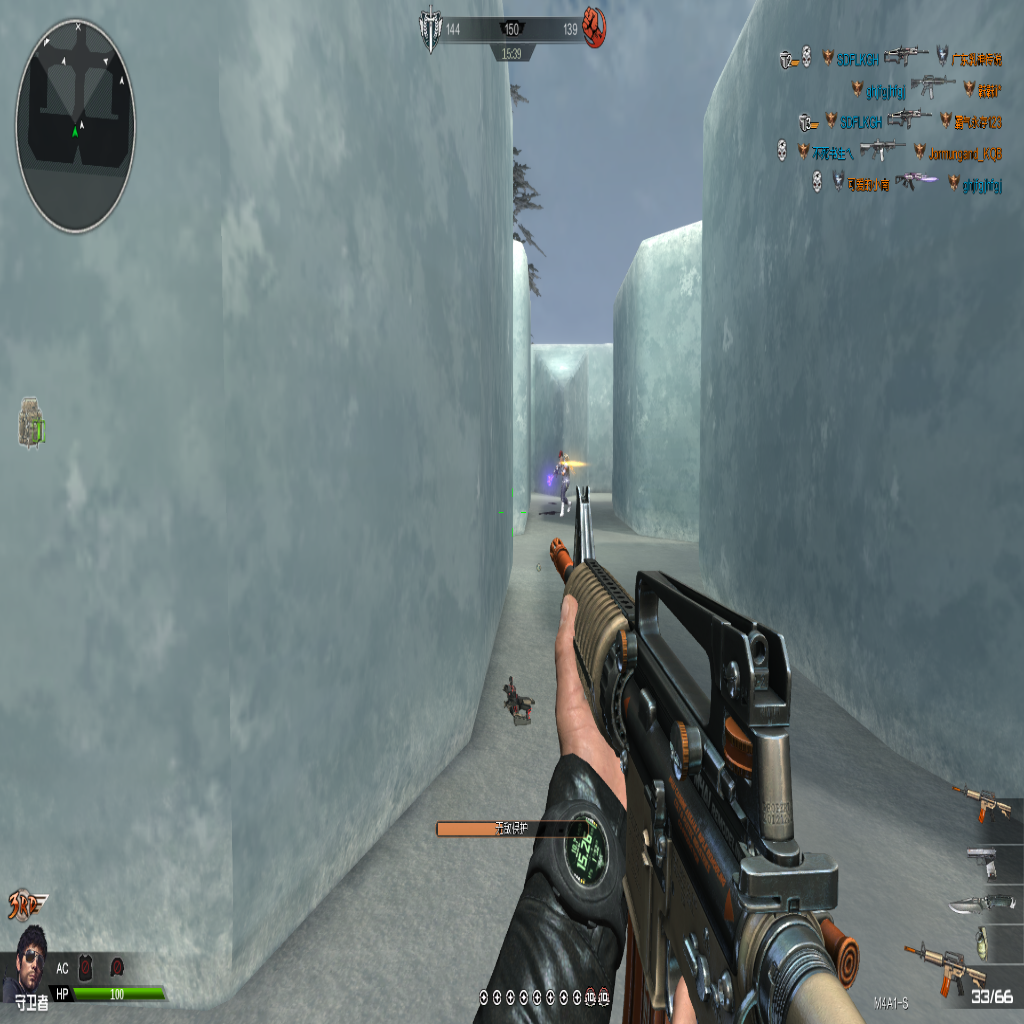tt: (555, 452, 572, 516)
